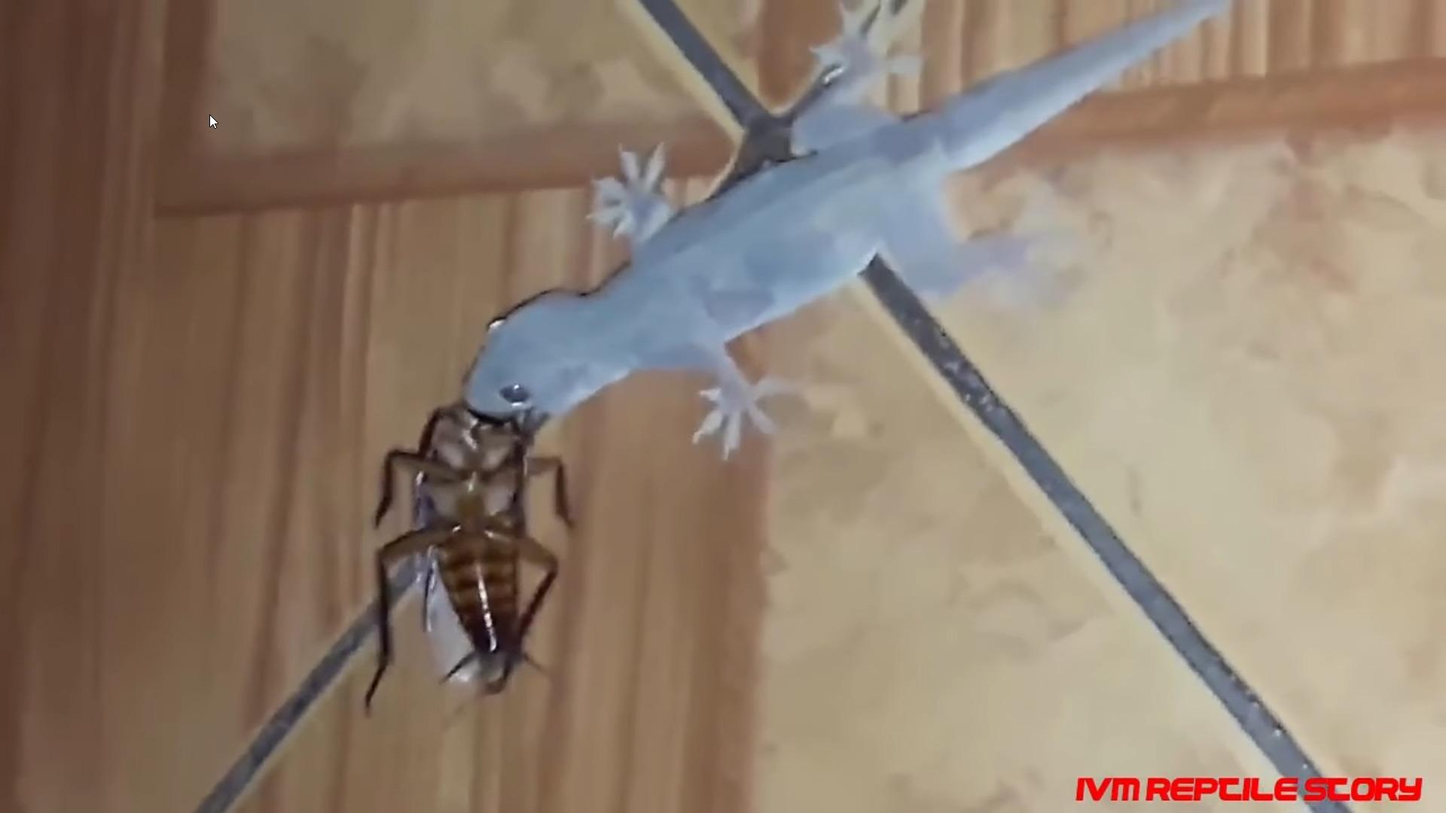cockroach: (371, 408, 581, 707)
lizard: (470, 52, 1107, 444)
